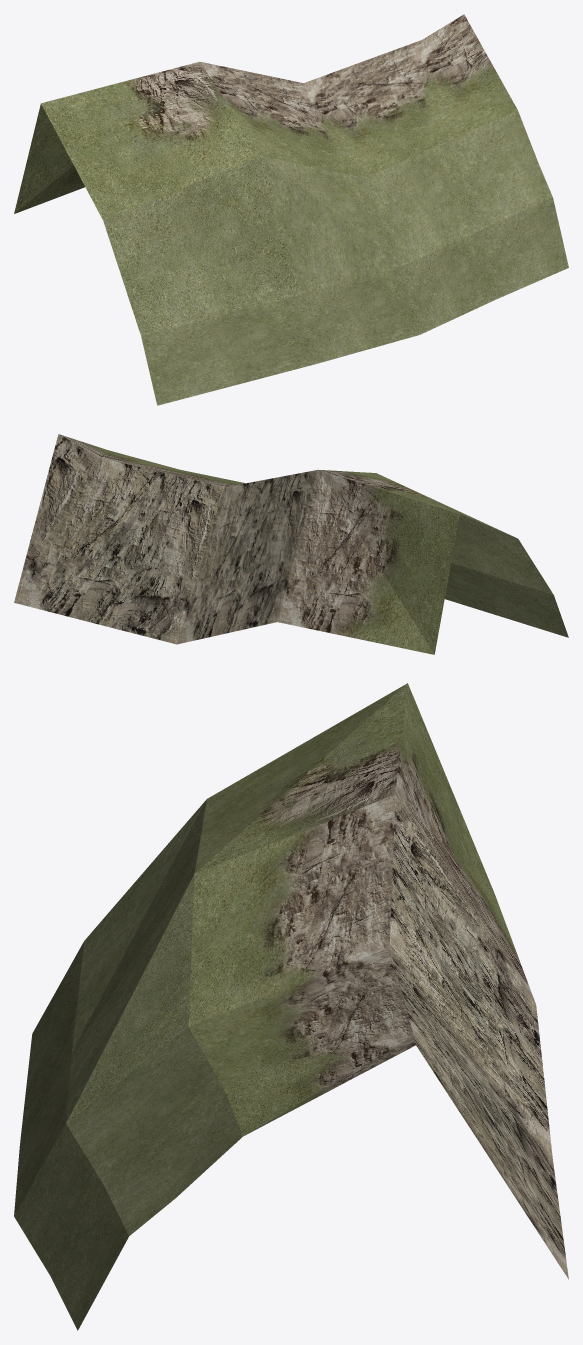
The model's file is land2_sfn16.obj.
3 renders of one model, top to bottom at view 1: azimuth 30°, elevation 25°; view 2: azimuth 150°, elevation 25°; view 3: azimuth 270°, elevation 25°, orthographic. The views are drawn at different scales.
Parts seen in each view (by area): view 1: land2_sfN16; view 2: land2_sfN16; view 3: land2_sfN16.
Boxes of the visible parts, x1,y1,x2,y2 form: land2_sfN16: (14, 14, 568, 405); land2_sfN16: (14, 434, 568, 654); land2_sfN16: (14, 683, 568, 1330).
Bounding box in the file's own units: 201 × 101 × 140.
5 materials, 5 textured.
